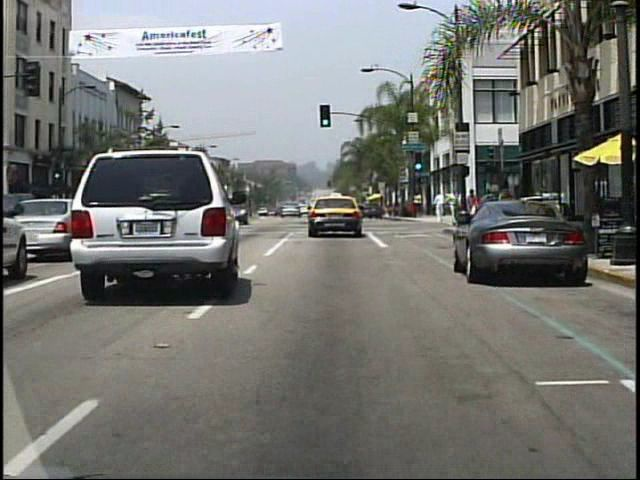person: (465, 187, 480, 224), (482, 189, 497, 224), (447, 187, 458, 227), (432, 191, 446, 222), (414, 192, 424, 216)
